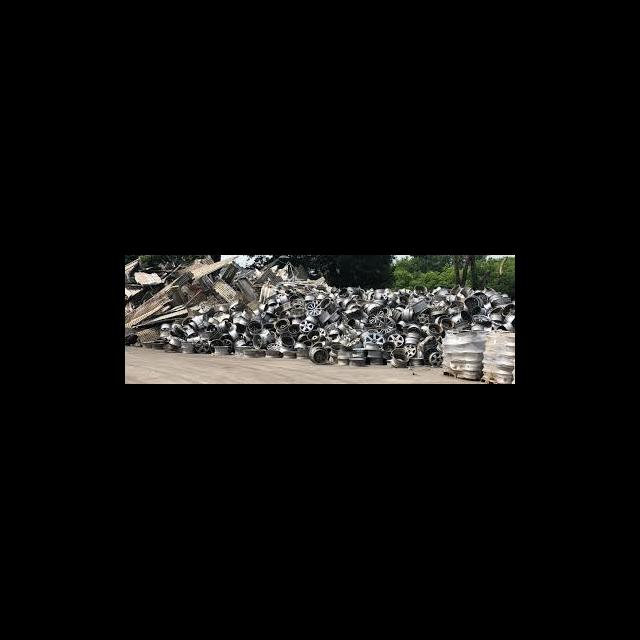metal: (447, 308, 474, 332), (246, 328, 268, 350), (371, 316, 400, 332), (388, 349, 411, 368), (300, 300, 323, 318), (309, 344, 329, 364), (362, 298, 382, 318), (360, 330, 386, 344), (294, 316, 316, 332), (191, 338, 213, 354), (426, 350, 445, 368), (210, 342, 231, 358), (360, 338, 383, 352), (244, 318, 264, 334), (183, 316, 203, 332), (386, 330, 405, 346), (396, 306, 415, 322), (423, 322, 444, 336), (272, 314, 287, 332), (348, 356, 367, 370), (214, 318, 233, 332), (362, 348, 383, 360), (344, 316, 362, 330), (277, 334, 295, 348), (224, 328, 241, 342), (334, 354, 353, 366), (255, 300, 267, 312)
